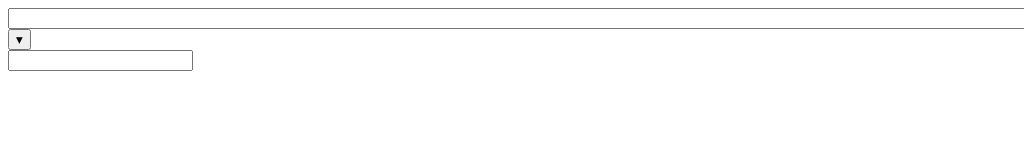
it: a field somebody can type into or pick from › LEAD-31: a list that merely opened on focus leaves Escape for the dialog
Focus the dropdown at (516, 18), box [8,8,1024,29]
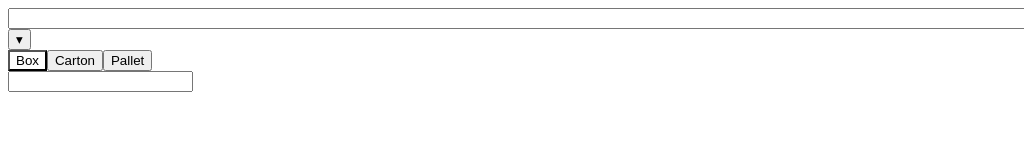
expect the option "Box" is shown: met, box [8,50,47,71]
Press Escape in the dropdown, box [8,8,1024,29]
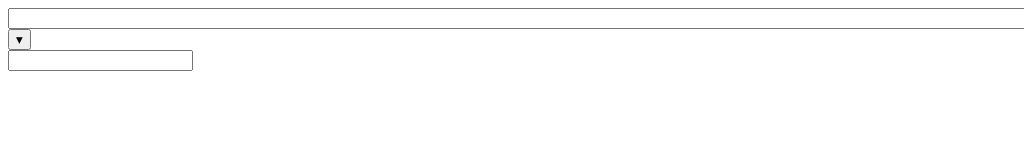
expect the option "Box" is gone: met
